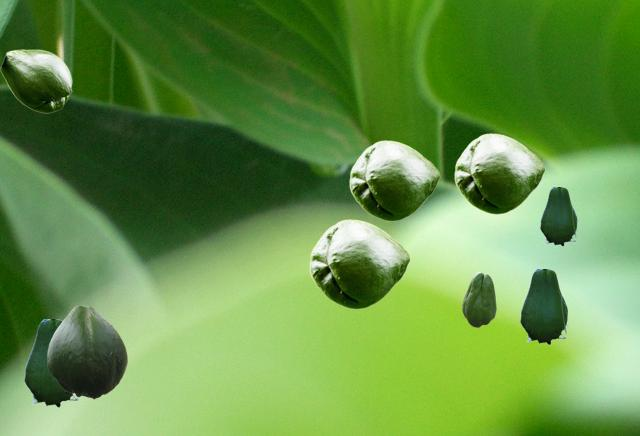sayote: (309, 219, 409, 308), (47, 305, 126, 398), (349, 140, 439, 220), (454, 133, 544, 213), (24, 319, 78, 408), (0, 49, 71, 112), (520, 269, 568, 345), (540, 187, 577, 246), (462, 272, 495, 326)
